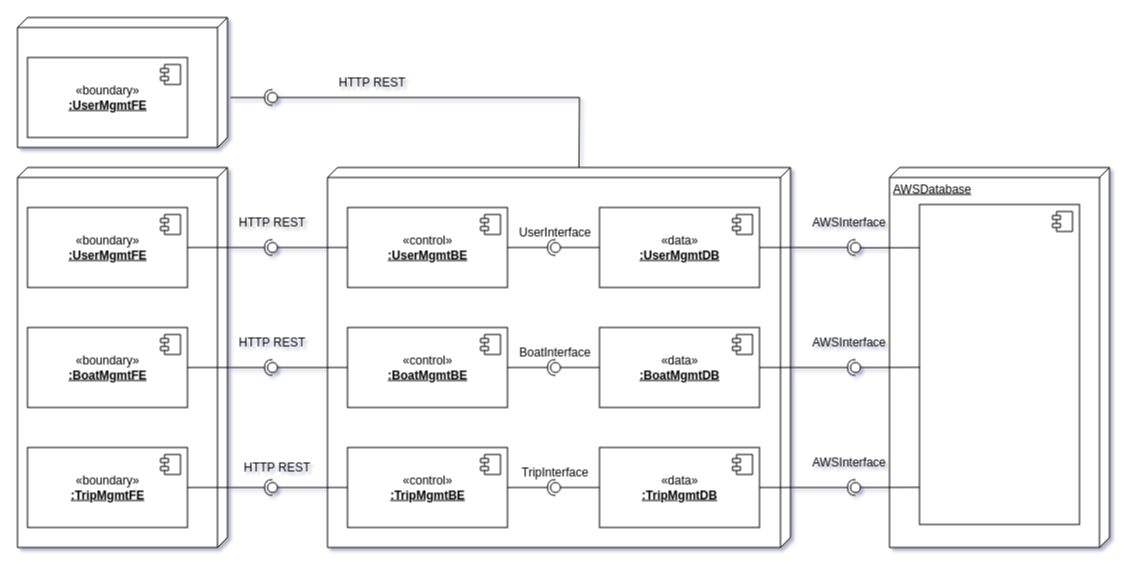
Some shapes in this 1133 by 571 pixel diagram are drawn without their labels. The box of each missing label's shape, as (x1, y1, x2, y2) in pixels:
OwnerPhone: (16, 166, 228, 548)
UserPhone: (16, 16, 228, 148)
WebServer: (326, 166, 790, 548)
«component» : Database: (918, 204, 1080, 524)
